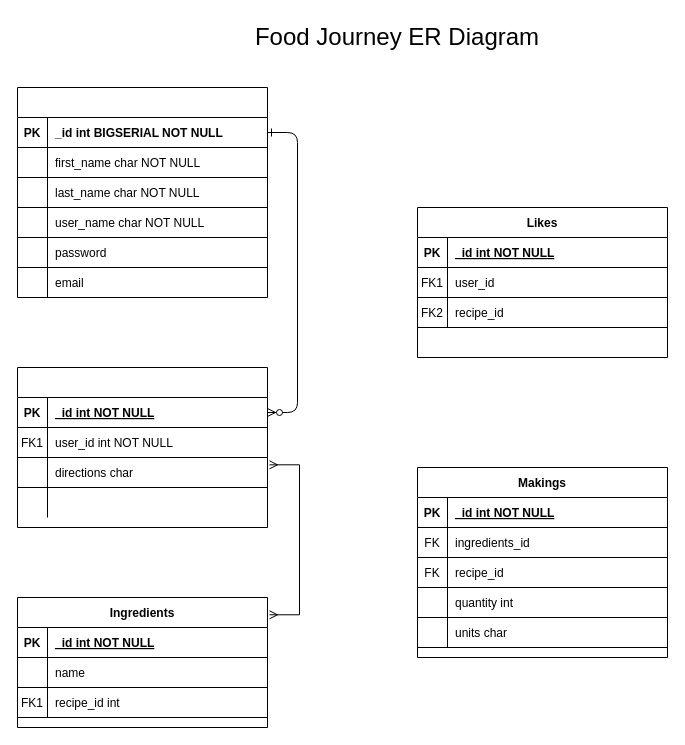
Image size: 685x745. Some labels were removed from this diagram. Here are the shapes that lost their labels. From the top down, the box of each, then its label:
(16, 86, 268, 298): Users
(16, 366, 268, 528): Recipes
